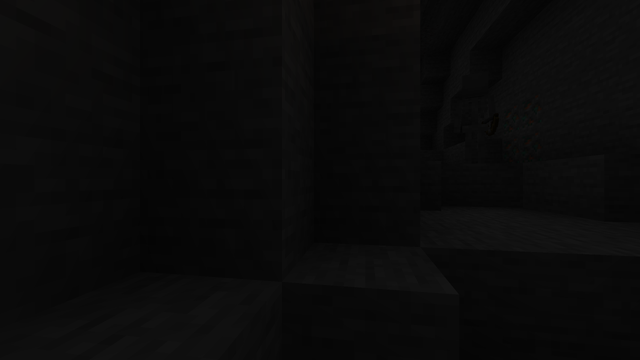squelettes: (456, 71, 495, 163)
